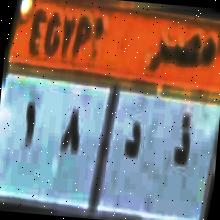1: (22, 98, 40, 149)
8: (58, 106, 84, 162)
daal: (122, 118, 144, 164)
zaal: (170, 110, 194, 174)
